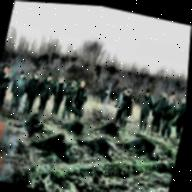boar: (26, 128, 82, 171), (116, 129, 164, 170), (79, 130, 120, 173), (57, 111, 89, 140), (92, 118, 125, 138), (22, 111, 49, 135)
